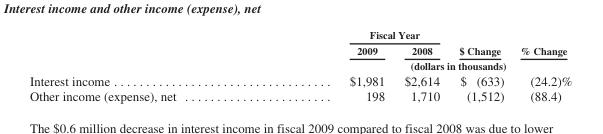table: (28, 28, 571, 103)
table column: (28, 28, 262, 103), (262, 28, 393, 103), (448, 28, 511, 103), (511, 28, 571, 103), (393, 28, 448, 103)
table column header: (28, 28, 571, 72)
table row: (28, 72, 571, 88), (28, 42, 571, 57), (28, 57, 571, 72), (28, 88, 571, 103), (28, 28, 571, 42)
table spanning cell: (262, 57, 571, 72), (262, 28, 448, 42), (448, 28, 511, 57), (511, 28, 571, 57)
